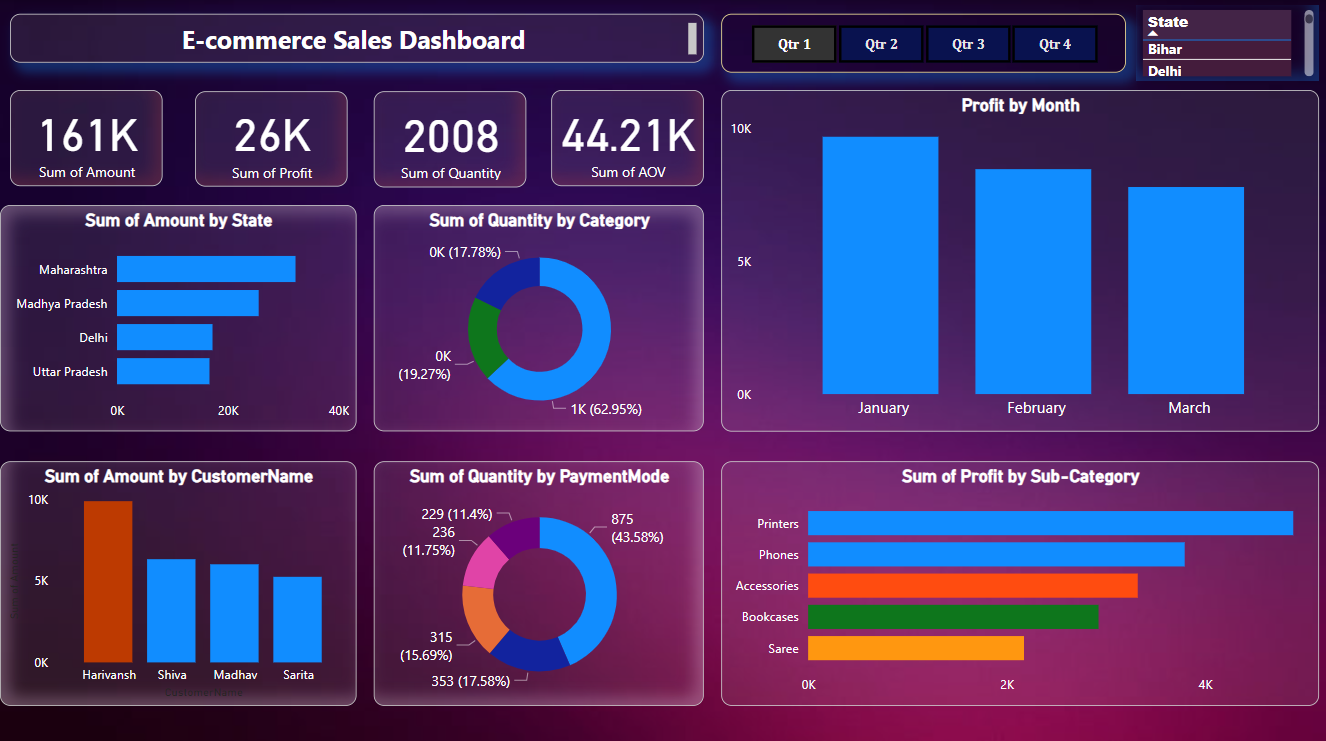

This screenshot's page, from the dashboard's own definition file:
{"tool":"powerbi","page":{"name":"Page 1","canvas":[1280,720],"ordinal":0},"visuals":[{"type":"textbox","box":[9.6,13.3,669.3,47],"z":0},{"type":"columnChart","title":"Profit by Month","fields":{"Category":["Orders.Order Date.Variation.Date Hierarchy.Month"],"Y":["Details.Profit"]},"box":[695.9,86.8,576.5,329.2],"z":1000},{"type":"clusteredBarChart","fields":{"Category":["Details.Sub-Category"],"Y":["Details.Profit"]},"box":[695.9,445,576.5,236.4],"z":2000},{"type":"donutChart","fields":{"Category":["Details.Category"],"Y":["Details.Quantity"]},"box":[360.6,197.8,318.4,218.3],"z":3000},{"type":"donutChart","fields":{"Y":["Details.Quantity"],"Category":["Details.PaymentMode"]},"box":[360.6,445,318.4,236.4],"z":4000},{"type":"card","fields":{"Values":["Details.Amount"]},"box":[9.6,86.8,147,92.9],"z":5000},{"type":"card","fields":{"Values":["Details.Profit"]},"box":[188.1,88,147.1,91.7],"z":6000},{"type":"card","fields":{"Values":["Details.Quantity"]},"box":[360.6,88,147.1,92.9],"z":7000},{"type":"card","fields":{"Values":["Details.AOV"]},"box":[531.9,86.8,147.1,92.9],"z":8000},{"type":"clusteredBarChart","fields":{"Category":["Orders.State"],"Y":["Details.Amount"]},"box":[0,197.8,343.7,218.3],"z":10000},{"type":"columnChart","fields":{"Category":["Orders.CustomerName"],"Y":["Details.Amount"]},"box":[0,445,343.7,236.4],"z":11000},{"type":"slicer","fields":{"Values":["Orders.Order Date.Variation.Date Hierarchy.Quarter"]},"box":[695.9,13.3,390.8,56.7],"z":12000},{"type":"tableEx","fields":{"Values":["Orders.State"]},"box":[1096.3,4.8,176.1,73.6],"z":13000}]}

Visuals, with their boxes in screenshot pixels (x1, y1, x2, y2), scaled from the page's 1280x720 canvas onto the 1326x741 screenshot:
textbox: [left=10, top=14, right=703, bottom=62]
"Profit by Month" columnChart: [left=721, top=89, right=1318, bottom=428]
clusteredBarChart - Details.Sub-Category x Details.Profit: [left=721, top=458, right=1318, bottom=701]
donutChart - Details.Category x Details.Quantity: [left=374, top=204, right=703, bottom=428]
donutChart - Details.Quantity x Details.PaymentMode: [left=374, top=458, right=703, bottom=701]
card - Details.Amount: [left=10, top=89, right=162, bottom=185]
card - Details.Profit: [left=195, top=91, right=347, bottom=185]
card - Details.Quantity: [left=374, top=91, right=526, bottom=186]
card - Details.AOV: [left=551, top=89, right=703, bottom=185]
clusteredBarChart - Orders.State x Details.Amount: [left=0, top=204, right=356, bottom=428]
columnChart - Orders.CustomerName x Details.Amount: [left=0, top=458, right=356, bottom=701]
slicer - Orders.Order Date.Variation.Date Hierarchy.Quarter: [left=721, top=14, right=1126, bottom=72]
tableEx - Orders.State: [left=1136, top=5, right=1318, bottom=81]
